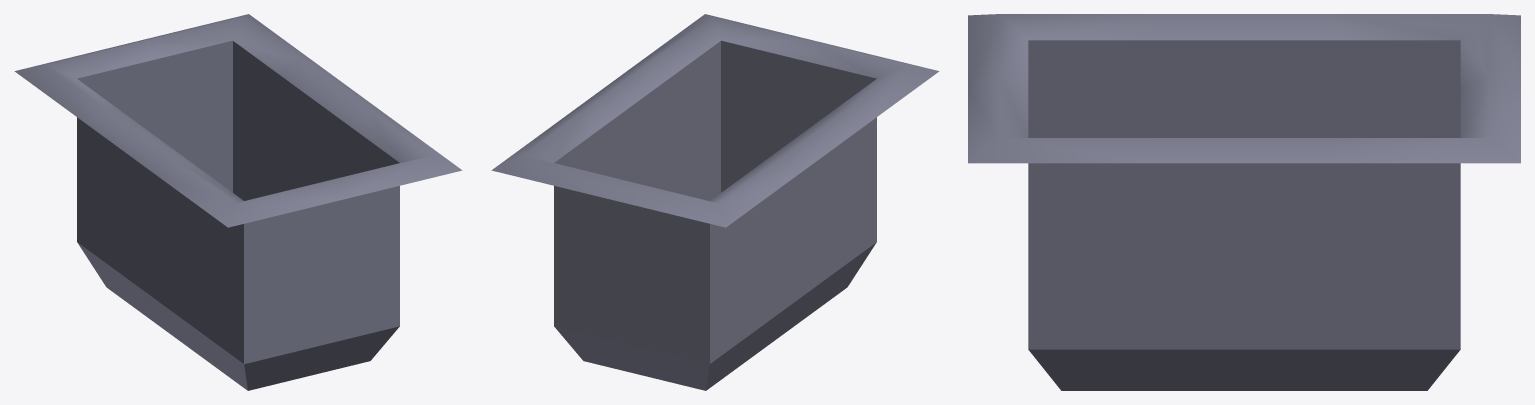
The model's file is 9thpan.FBX.
3 views of the same model, side by side, from view 1: azimuth 30°, elevation 25°; view 2: azimuth 150°, elevation 25°; view 3: azimuth 270°, elevation 25° (orthographic). The views are drawn at different scales.
Visible parts, largest first — view 1: Plane002, Plane005, Plane004, Plane003; view 2: Plane003, Plane004, Plane005, Plane002; view 3: Plane004, Plane005, Plane002, Plane003.
Boxes of the visible parts, bbox=[...] form: Plane002: bbox=[121, 134, 344, 390]; Plane005: bbox=[132, 14, 354, 200]; Plane004: bbox=[309, 86, 462, 375]; Plane003: bbox=[14, 41, 176, 338]; Plane003: bbox=[609, 134, 832, 390]; Plane004: bbox=[599, 14, 821, 200]; Plane005: bbox=[491, 86, 644, 375]; Plane002: bbox=[777, 41, 939, 338]; Plane004: bbox=[968, 76, 1244, 390]; Plane005: bbox=[1244, 76, 1520, 390]; Plane002: bbox=[968, 14, 1244, 137]; Plane003: bbox=[1244, 14, 1520, 137].
Bounding box in the file's own units: 11.42 × 9.95 × 18.03.
